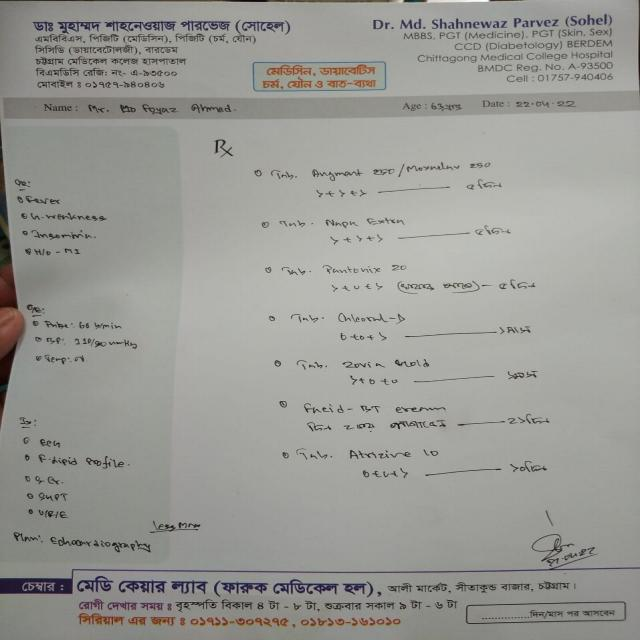Atrizin: (341, 446, 416, 463)
Augment: (303, 165, 371, 186)
Facid BT: (298, 397, 385, 420)
Kalcoral D: (331, 308, 407, 328)
Moxaclav: (402, 160, 463, 176)
Napa Extra: (316, 213, 408, 230)
Pantonix: (316, 260, 388, 280)
Zovia Gold: (336, 355, 434, 374)
